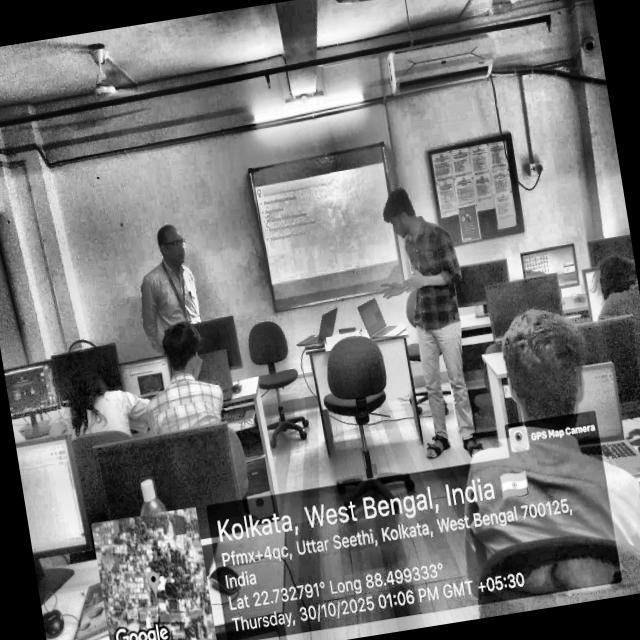Focus: (482, 274, 634, 552), (349, 151, 508, 416), (55, 327, 242, 483), (124, 198, 217, 372)
